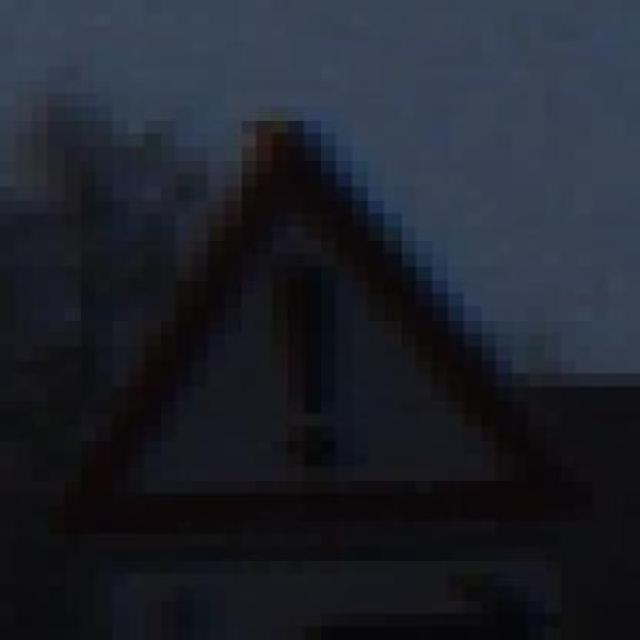Attention Please-: (15, 120, 592, 560)
